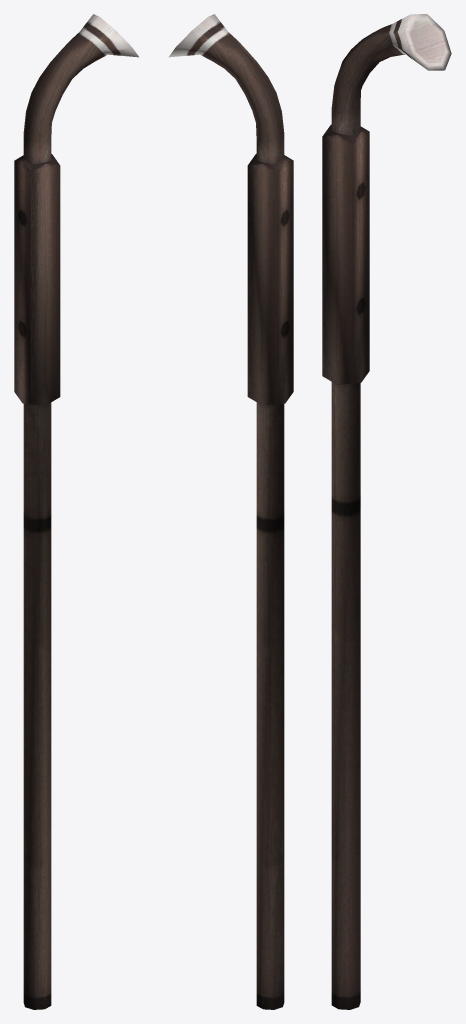
3 renders of one model, left to right at view 1: azimuth 30°, elevation 25°; view 2: azimuth 150°, elevation 25°; view 3: azimuth 330°, elevation 25°, orthographic. The views are drawn at different scales.
Parts seen in each view (by area): view 1: node_id6; view 2: node_id6; view 3: node_id6.
Part boxes in pixels (<box>): node_id6: <box>14,14,138,1009</box>; node_id6: <box>169,14,293,1009</box>; node_id6: <box>322,14,451,1009</box>.
Bounding box in the file's own units: 0.0533 × 0.4484 × 0.0267.
Materials: 1 (1 with a texture image).
